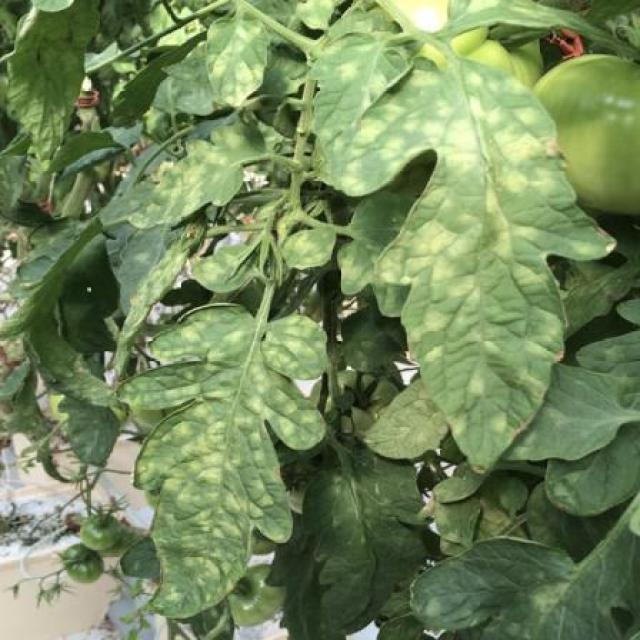Leaf Mold: (322, 55, 617, 475), (124, 298, 329, 616), (124, 100, 272, 234), (154, 20, 269, 120)
